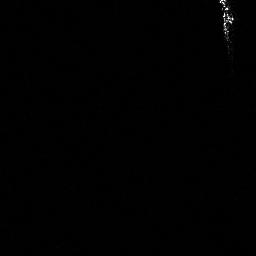ship: (219, 1, 234, 50)
